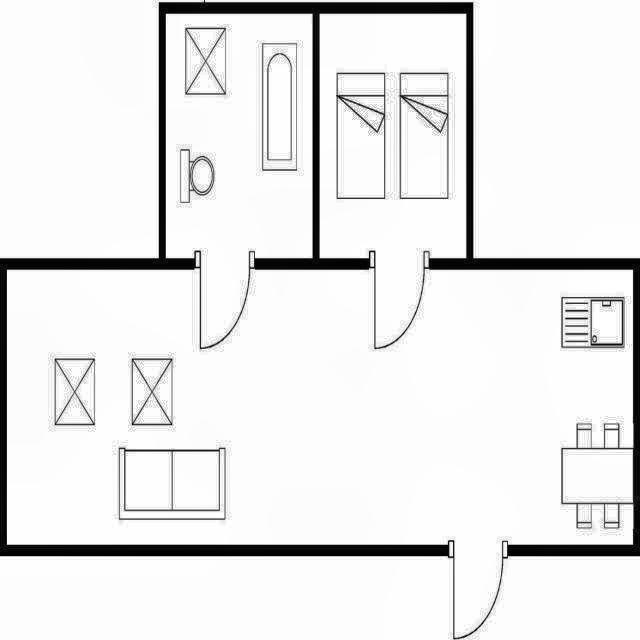room: (7, 270, 633, 545), (166, 14, 313, 257), (320, 13, 466, 257)
